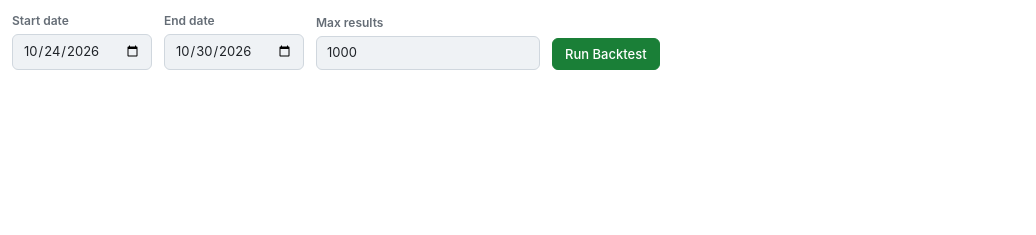
Scenario: BacktestPanel › shows results after running a backtest
The width and height of the screenshot is (1036, 235).
Click the button "Run Backtest" at [606, 54], box [552,38,660,70]
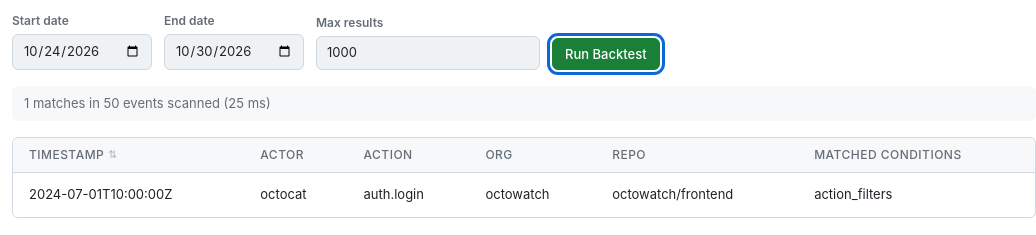
Check: the text "1 matches in 50 events scanned (25 ms)" is shown, box [12,86,1035,121]
Check: the text "octocat" is shown, box [244,172,348,216]
Check: the text "auth.login" is shown, box [348,172,469,216]
